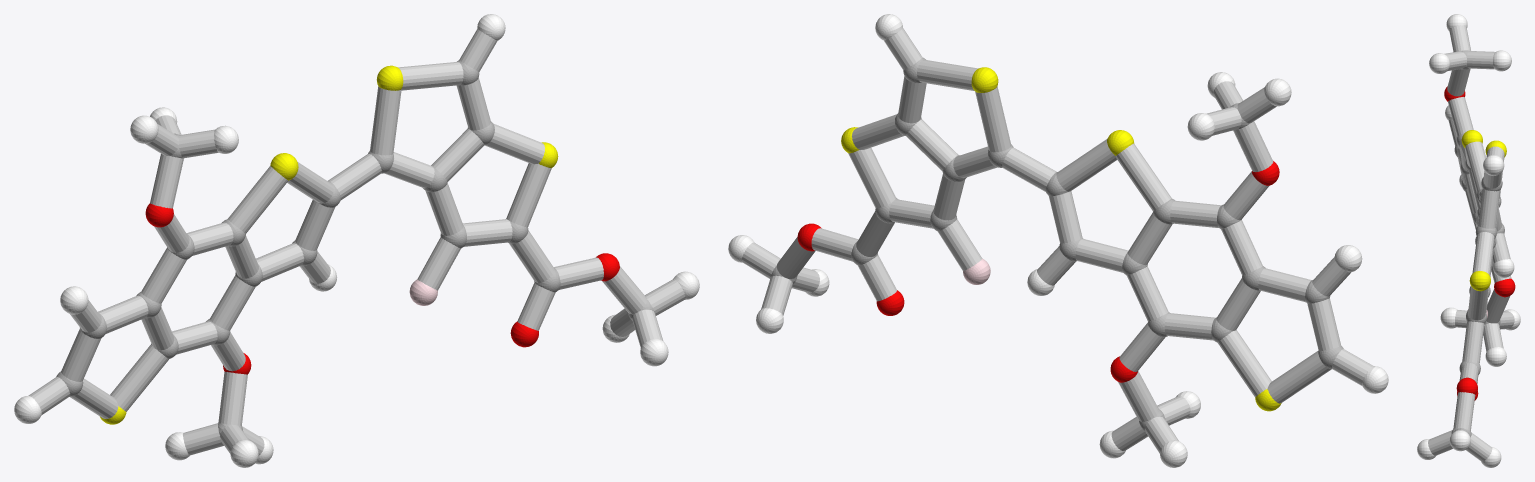
The model's file is color.glb.
3 views of the same model, side by side, from view 1: azimuth 30°, elevation 25°; view 2: azimuth 150°, elevation 25°; view 3: azimuth 270°, elevation 25° (orthographic). The views are drawn at different scales.
Visible parts, largest first — view 1: grp15205, grp8689, grp1, grp7241, grp13395; view 2: grp15205, grp8689, grp1, grp7241, grp13395; view 3: grp15205, grp8689, grp1, grp7241, grp13395.
Part boxes in pixels (x1,y1,x2,y2): grp15205: [28, 29, 685, 455]; grp8689: [14, 14, 699, 467]; grp1: [56, 60, 653, 435]; grp7241: [100, 65, 558, 424]; grp13395: [145, 203, 619, 374]; grp15205: [741, 28, 1372, 453]; grp8689: [728, 14, 1388, 467]; grp1: [771, 57, 1343, 431]; grp7241: [841, 67, 1281, 411]; grp13395: [797, 161, 1279, 382]; grp15205: [1428, 25, 1514, 461]; grp8689: [1417, 14, 1520, 467]; grp1: [1451, 50, 1504, 437]; grp7241: [1461, 130, 1506, 291]; grp13395: [1444, 86, 1515, 400].
Bounding box in the file's own units: 16.47 × 9.32 × 2.92.
